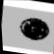correct: (15, 15, 54, 47)
